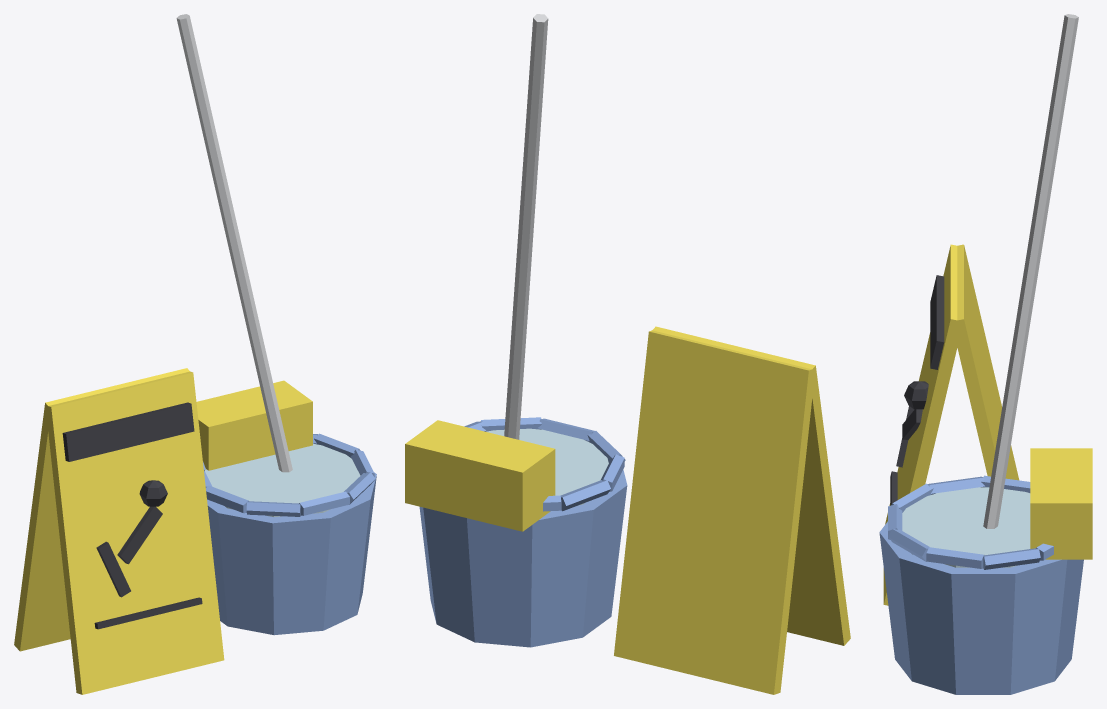
Rendered from HJ_PosteMojado.fbx.
The picture shows the model from 3 angles, left to right: view 1: azimuth 30°, elevation 25°; view 2: azimuth 150°, elevation 25°; view 3: azimuth 270°, elevation 25°; orthographic projection. The views are drawn at different scales.
Visible parts, largest first — view 1: HJ_PosteMojado; view 2: HJ_PosteMojado; view 3: HJ_PosteMojado.
Part boxes in pixels (<box>): HJ_PosteMojado: <box>14,14,376,694</box>; HJ_PosteMojado: <box>405,14,850,694</box>; HJ_PosteMojado: <box>879,14,1092,694</box>.
Bounding box in the file's own units: 0.7843 × 1.31 × 0.41.
